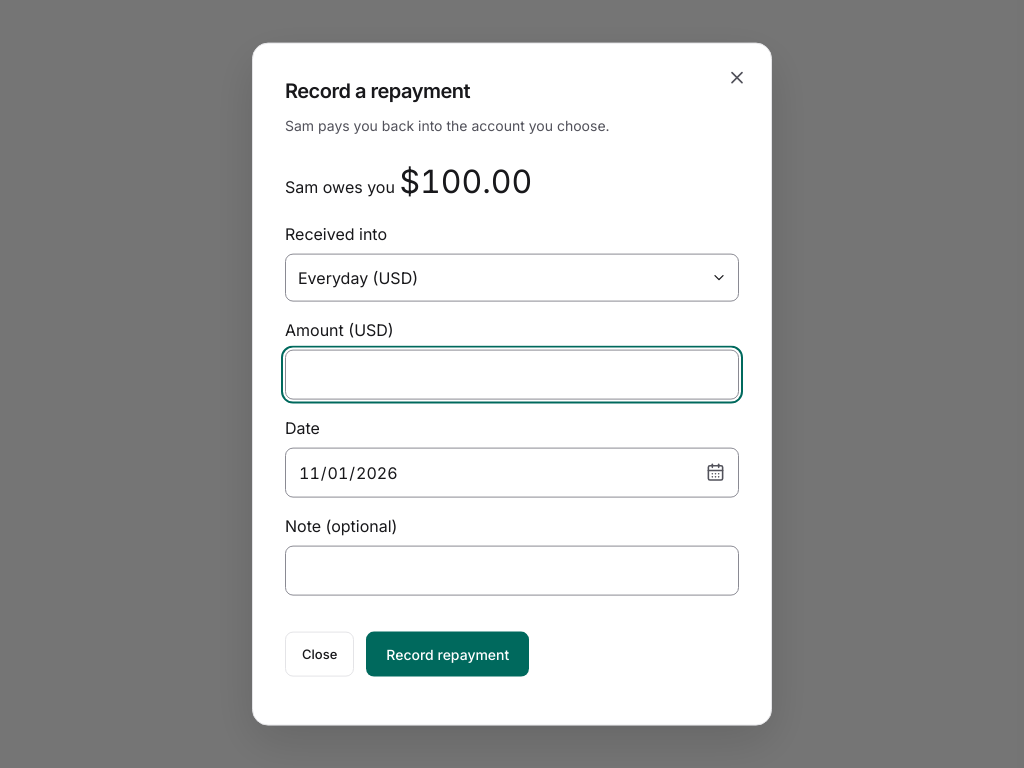
Scenario: LoanDialog › refuses a repayment larger than what is open, and sends nothing
The width and height of the screenshot is (1024, 768).
Type "150" into the field labelled "Amount (USD)".
click(512, 374); type("150")  # box [285, 349, 739, 399]
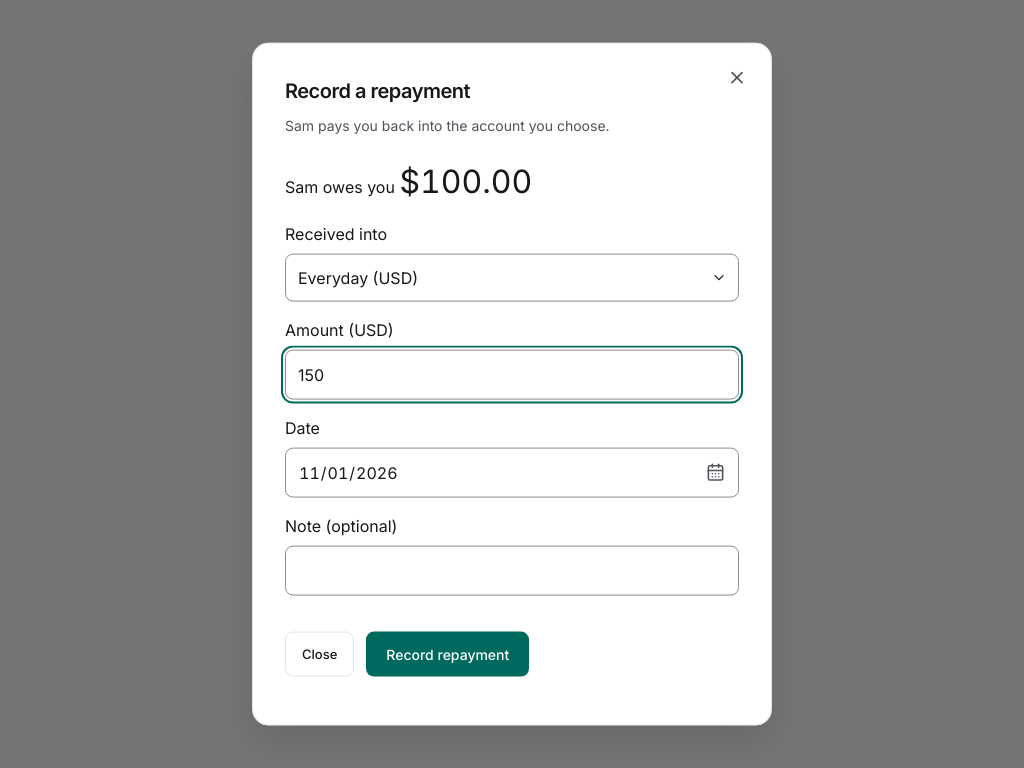
Click the button "Record repayment".
click(448, 654)  # box [366, 631, 529, 676]
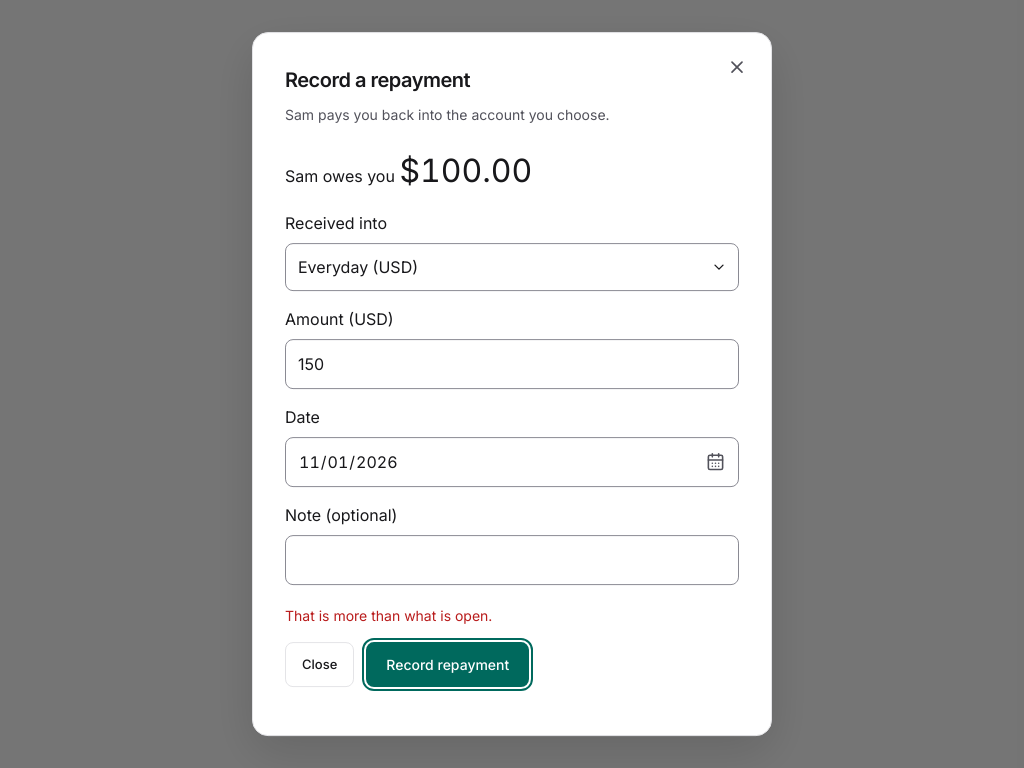
Result: the message shows "more than what is open" at [285, 607, 492, 624]
